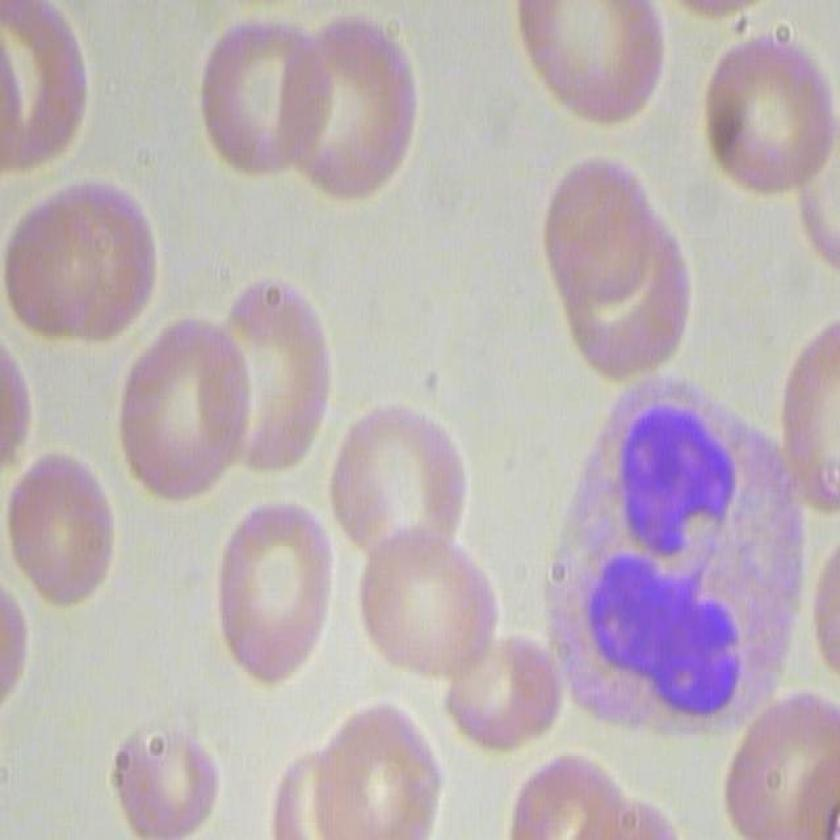neutrophil: (543, 375, 812, 751)
